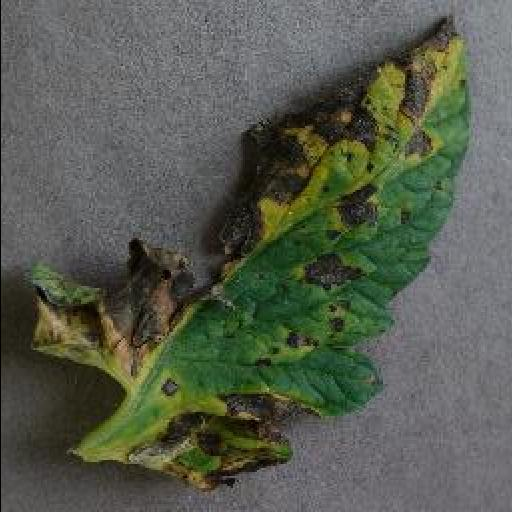disease_tomato: (28, 16, 474, 490)
